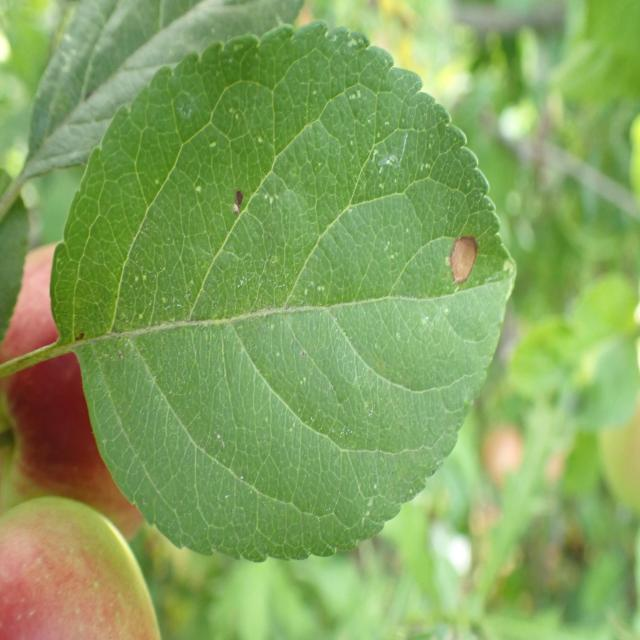Black Rot: (437, 204, 486, 312)
